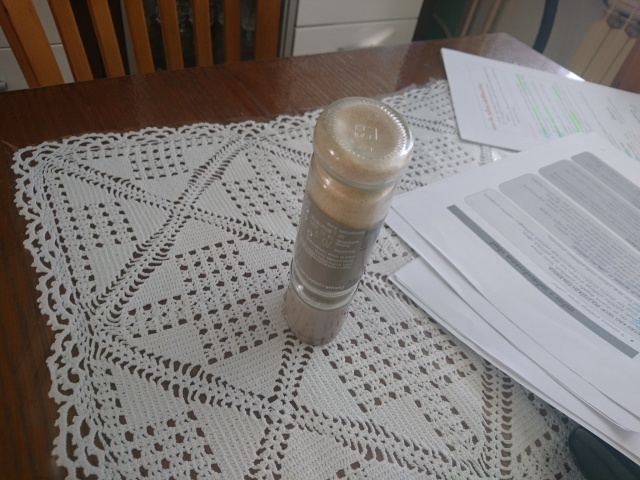Kotanyi Garlic Granules 70g: (280, 93, 417, 349)
